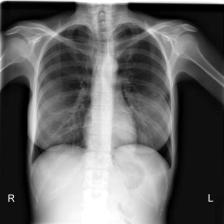normal: (29, 22, 175, 172)
